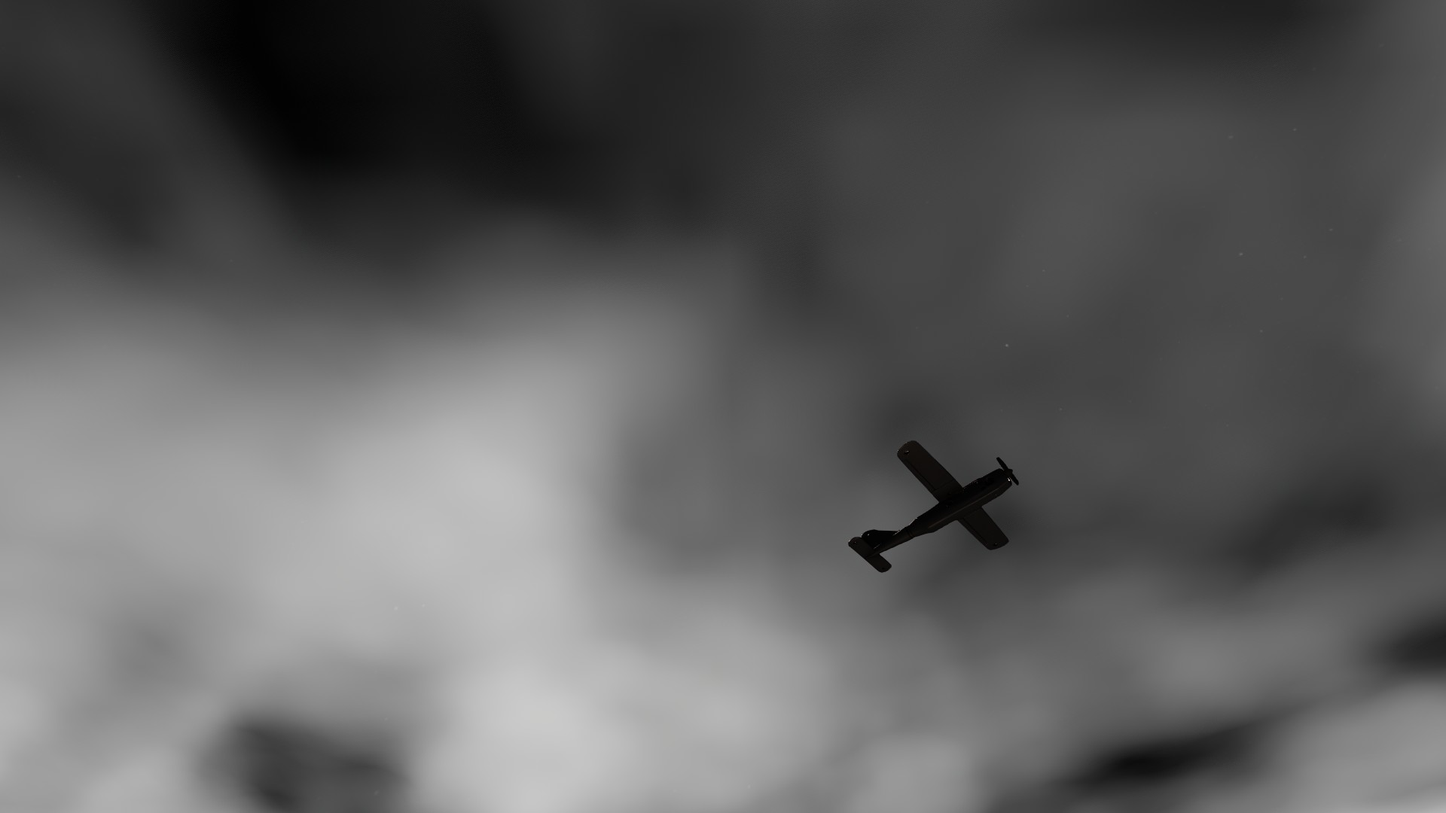drone_other: (848, 440, 1019, 572)
